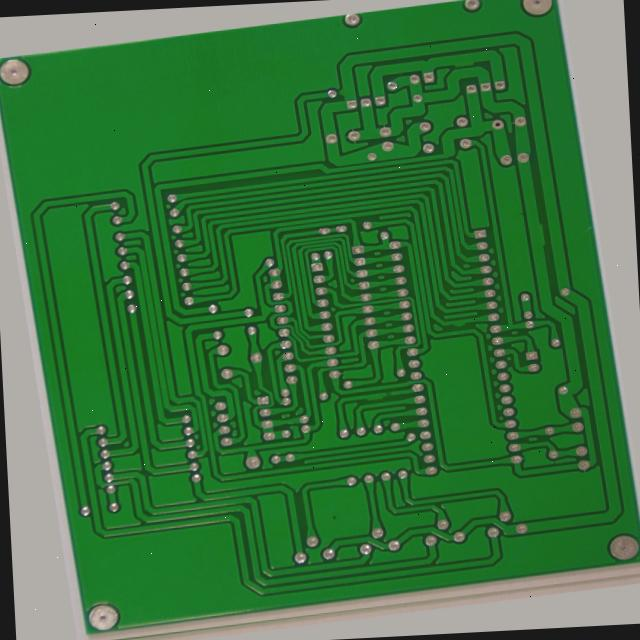spur: (561, 229, 582, 261), (494, 51, 523, 65), (462, 329, 484, 342), (357, 401, 385, 411), (363, 70, 380, 86)
